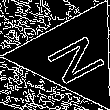N_NE: (36, 25, 109, 86)
